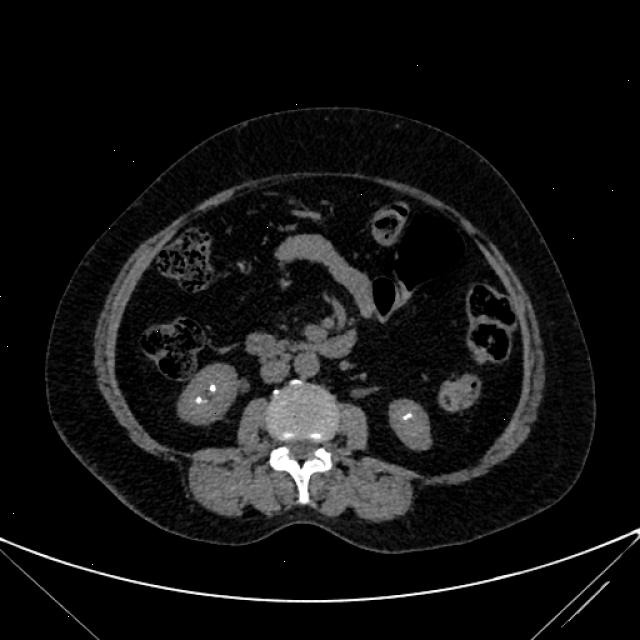kidneystone: (199, 384, 218, 403), (402, 412, 412, 421)
